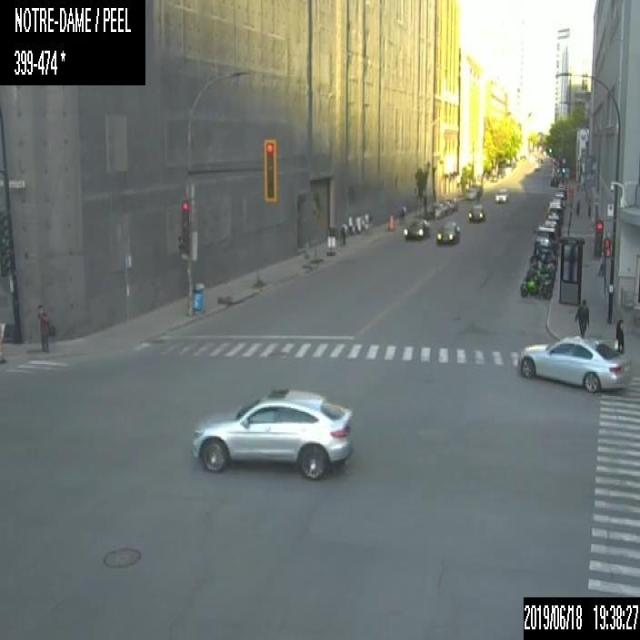construction: (388, 214, 394, 230)
pedestrian: (35, 301, 52, 352), (574, 297, 589, 335), (614, 316, 624, 351), (362, 210, 370, 233), (340, 220, 347, 246), (354, 212, 361, 236), (398, 198, 406, 218), (347, 212, 353, 236), (576, 198, 580, 216)
vehicle: (190, 384, 352, 481), (514, 333, 632, 392), (520, 274, 554, 298), (435, 219, 460, 244), (402, 218, 429, 240), (534, 224, 558, 248), (526, 266, 554, 285), (532, 240, 557, 261), (530, 258, 556, 272), (468, 203, 486, 221), (548, 200, 562, 223), (429, 202, 447, 218), (546, 214, 560, 234), (494, 187, 509, 201), (444, 196, 457, 211), (464, 187, 477, 200), (469, 181, 481, 195), (554, 191, 565, 206), (530, 156, 541, 169), (544, 220, 558, 227), (558, 184, 566, 195), (552, 197, 562, 205)
